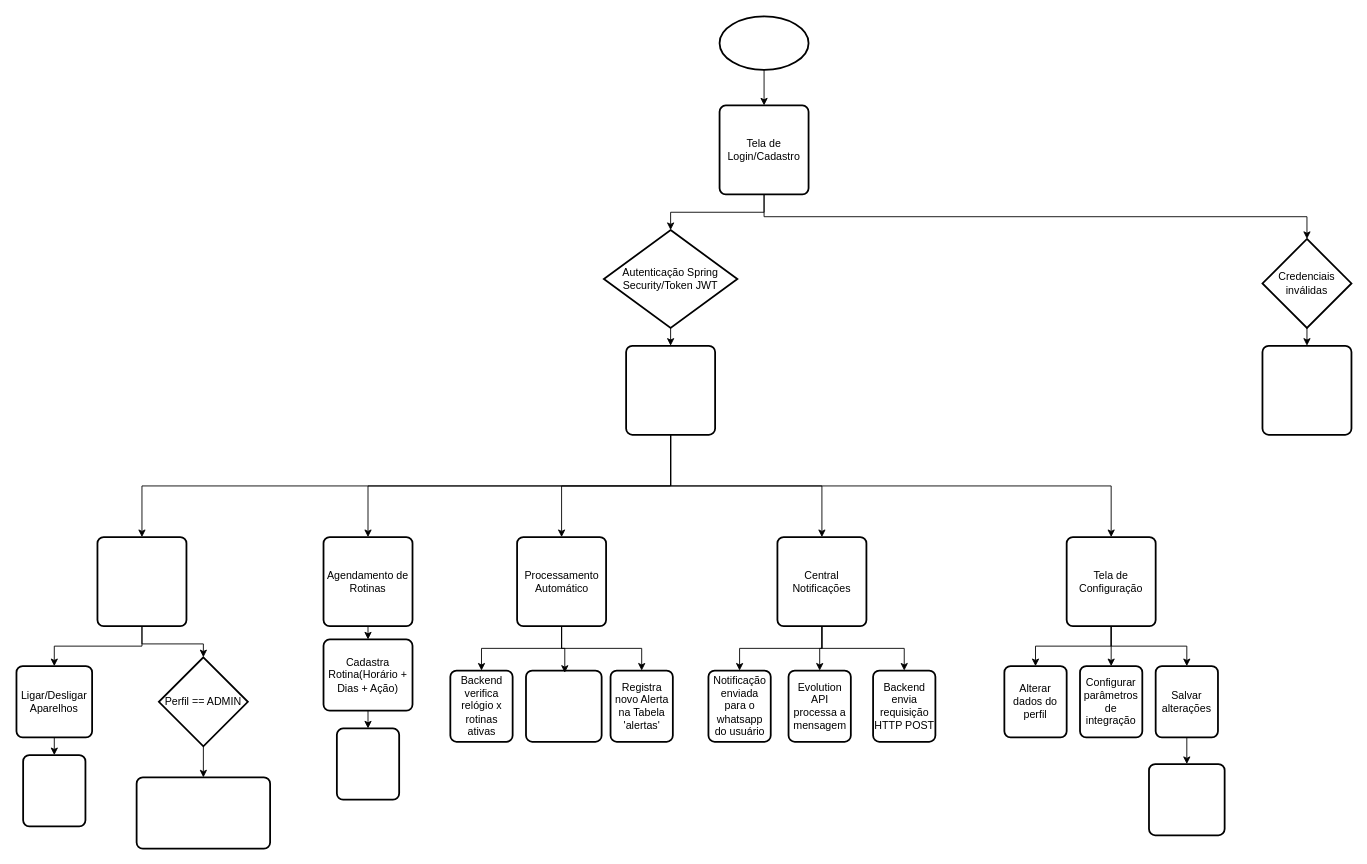
Image size: 1367x864. Some labels were removed from this diagram. Each missing label, with the centre of its shape:
"Adicionar/Editar/Remover" belongs at (x=203, y=812).
"Atualiza status no PostgreSQL" belongs at (x=54, y=790).
"Atualiza tabela de configurações no Banco" belongs at (x=1186, y=799).
"Dispara acionamento do dispositivo" belongs at (x=563, y=705).
"Exibe Erro" belongs at (x=1306, y=389).
"Gestão de Dispositivos" belongs at (x=141, y=581).
"INÍCIO" belongs at (x=763, y=42).
"Painel Central" belongs at (x=670, y=389).
"Salva na Tabela 'rotinas'" belongs at (x=368, y=763).
